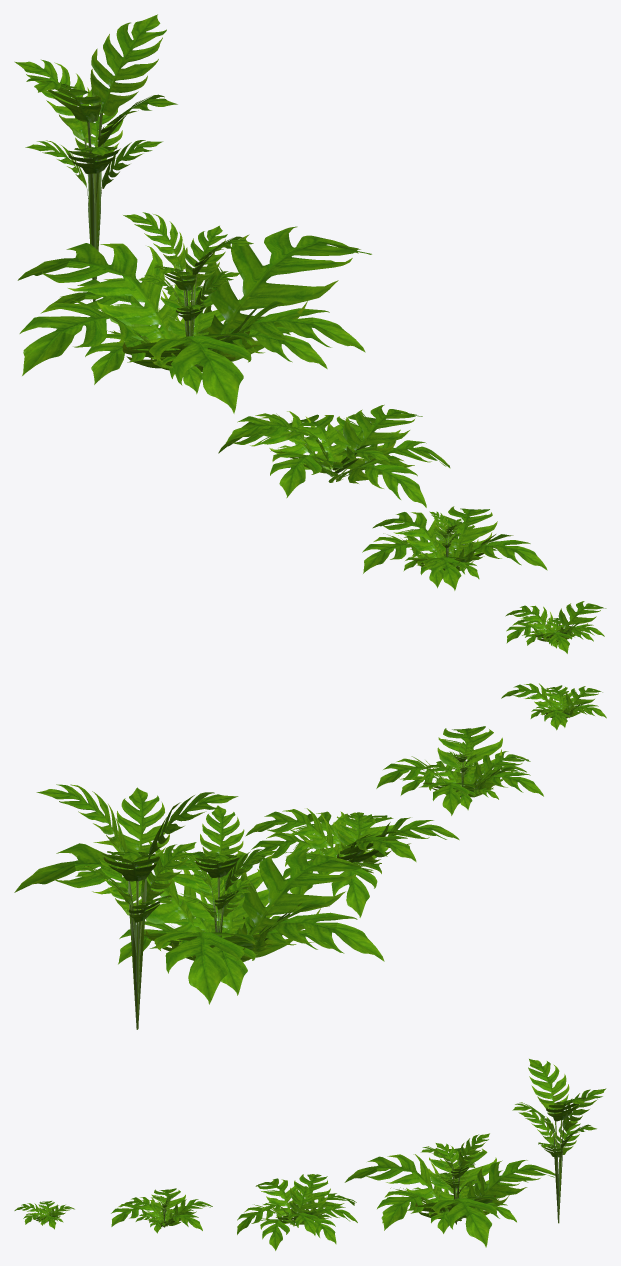
Rendered from 5 Jungle Plants Asset Pack.fbx.
The picture shows the model from 3 angles, top to bottom: view 1: azimuth 30°, elevation 25°; view 2: azimuth 150°, elevation 25°; view 3: azimuth 270°, elevation 25°; orthographic projection. The views are drawn at different scales.
Visible parts, largest first — view 1: Jungle_Bush_4, Tall_Jungle_Plant, Jungle_Bush_1, Jungle_Bush_2, Jungle_Bush_3; view 2: Jungle_Bush_4, Tall_Jungle_Plant, Jungle_Bush_1, Jungle_Bush_2, Jungle_Bush_3; view 3: Jungle_Bush_4, Jungle_Bush_1, Tall_Jungle_Plant, Jungle_Bush_2, Jungle_Bush_3.
Boxes of the visible parts, bbox=[...] form: Jungle_Bush_4: bbox=[17, 212, 371, 413]; Tall_Jungle_Plant: bbox=[14, 14, 177, 301]; Jungle_Bush_1: bbox=[218, 404, 450, 507]; Jungle_Bush_2: bbox=[362, 506, 547, 590]; Jungle_Bush_3: bbox=[505, 601, 606, 653]; Jungle_Bush_4: bbox=[14, 805, 384, 1004]; Tall_Jungle_Plant: bbox=[36, 784, 238, 1029]; Jungle_Bush_1: bbox=[245, 808, 459, 917]; Jungle_Bush_2: bbox=[376, 726, 543, 815]; Jungle_Bush_3: bbox=[501, 683, 606, 730]; Jungle_Bush_4: bbox=[344, 1133, 555, 1247]; Jungle_Bush_1: bbox=[237, 1174, 357, 1250]; Tall_Jungle_Plant: bbox=[512, 1059, 606, 1223]; Jungle_Bush_2: bbox=[111, 1188, 212, 1233]; Jungle_Bush_3: bbox=[14, 1201, 74, 1229].
Bounding box in the file's own units: 869 × 589 × 2161.
Materials: 1 (1 with a texture image).
